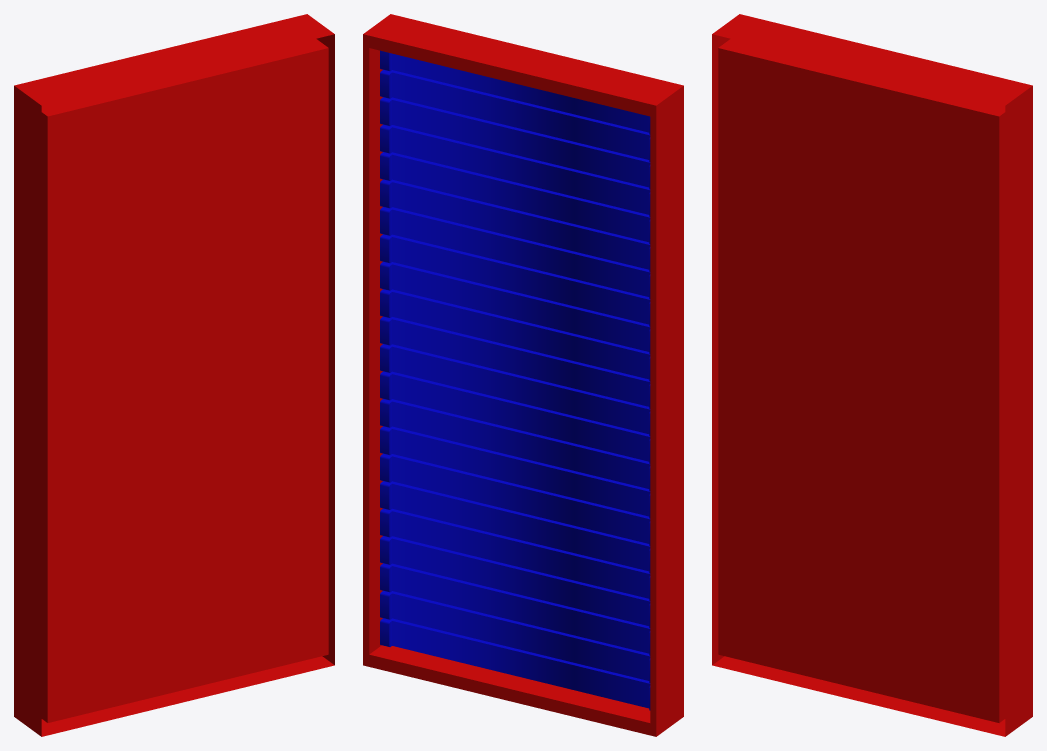
Rendered from ServerRack.fbx.
3 views of the same model, side by side, from view 1: azimuth 30°, elevation 25°; view 2: azimuth 150°, elevation 25°; view 3: azimuth 330°, elevation 25° (orthographic).
Parts seen in each view (by area): view 1: rack face single; view 2: rack face single; view 3: rack face single.
Boxes of the visible parts, x1,y1,x2,y2 form: rack face single: [14, 14, 334, 736]; rack face single: [363, 14, 683, 736]; rack face single: [712, 14, 1032, 736].
Size of the model in its own units: 108 by 223 by 17.65.
